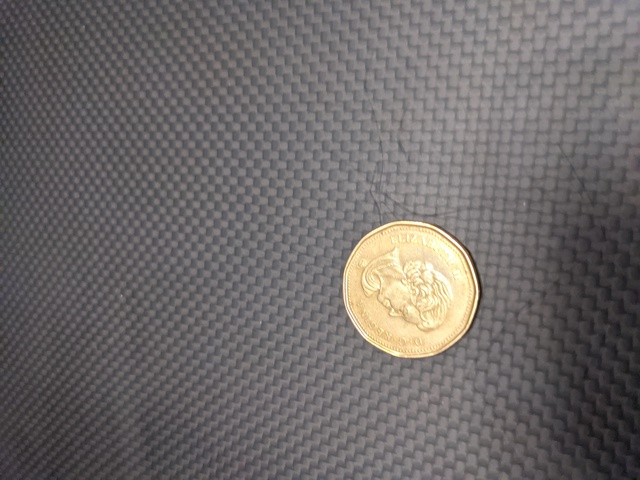loonie: (335, 206, 491, 361)
